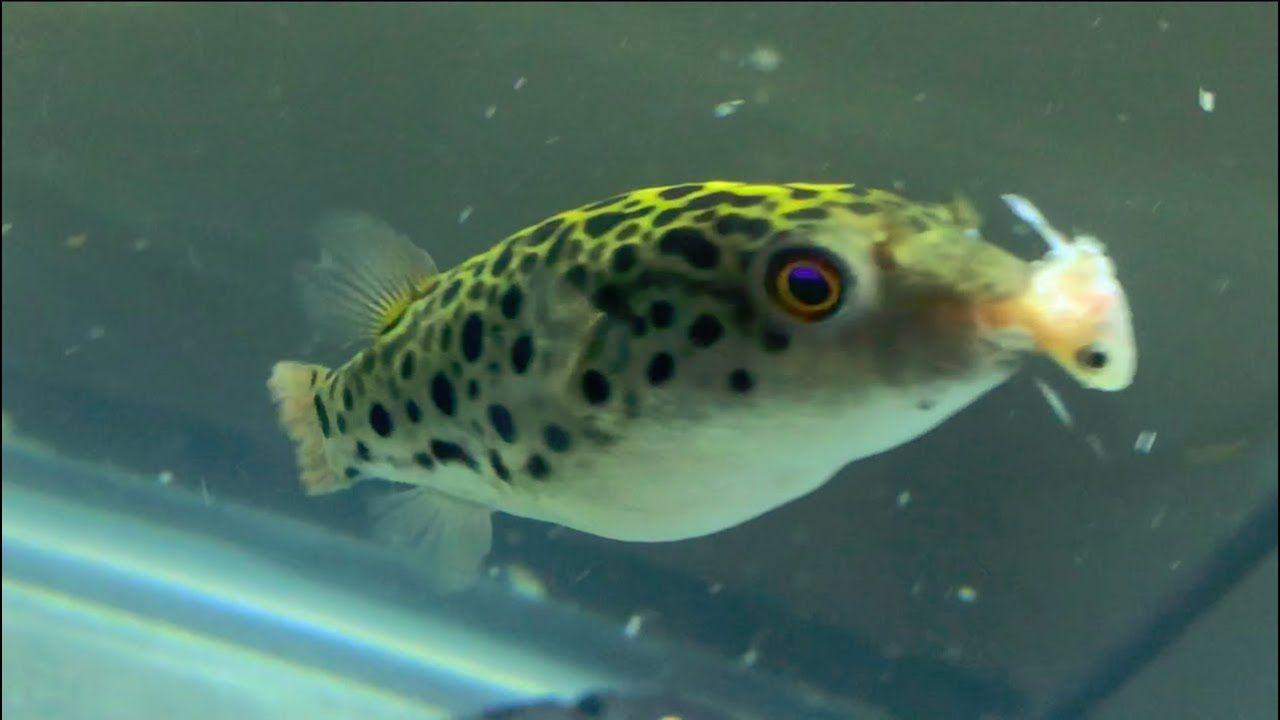Green Spotted Puffer: (269, 178, 1152, 596)
